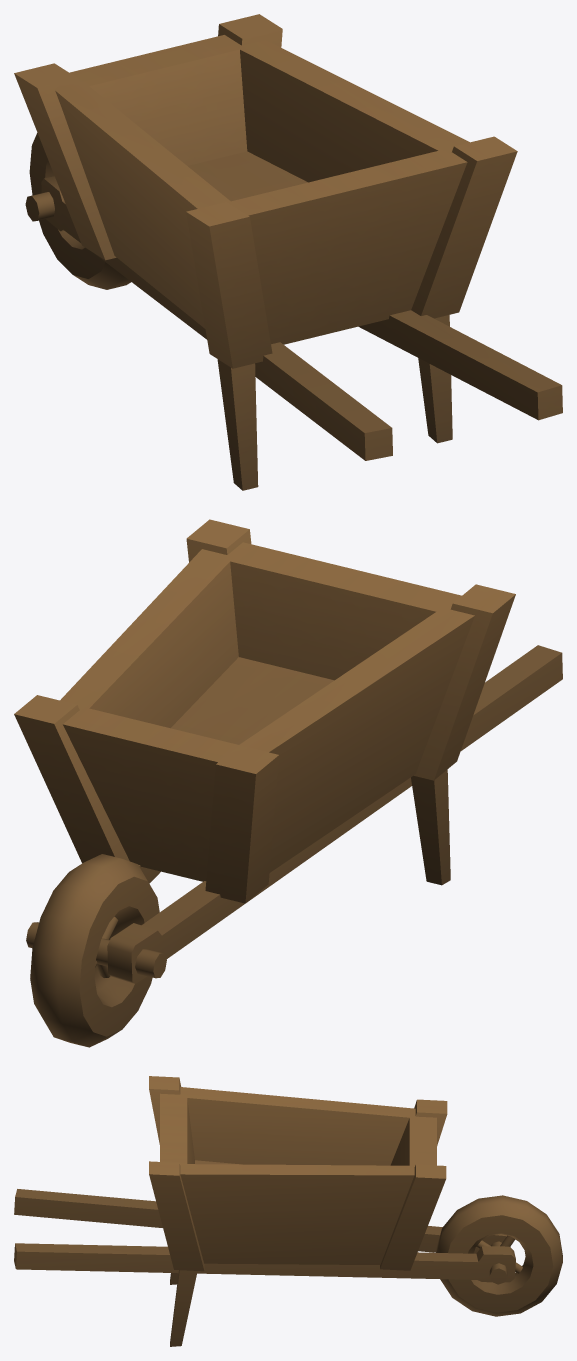
Rendered from Wheelbarrow.fbx.
The picture shows the model from 3 angles, top to bottom: view 1: azimuth 30°, elevation 25°; view 2: azimuth 150°, elevation 25°; view 3: azimuth 270°, elevation 25°; orthographic projection. The views are drawn at different scales.
Visible parts, largest first — view 1: Cube.024; view 2: Cube.024; view 3: Cube.024.
Part boxes in pixels (x1,y1,x2,y2): Cube.024: (14,14,562,490); Cube.024: (14,519,562,1047); Cube.024: (14,1076,562,1346).
Size of the model in its own units: 134 by 120 by 317.
